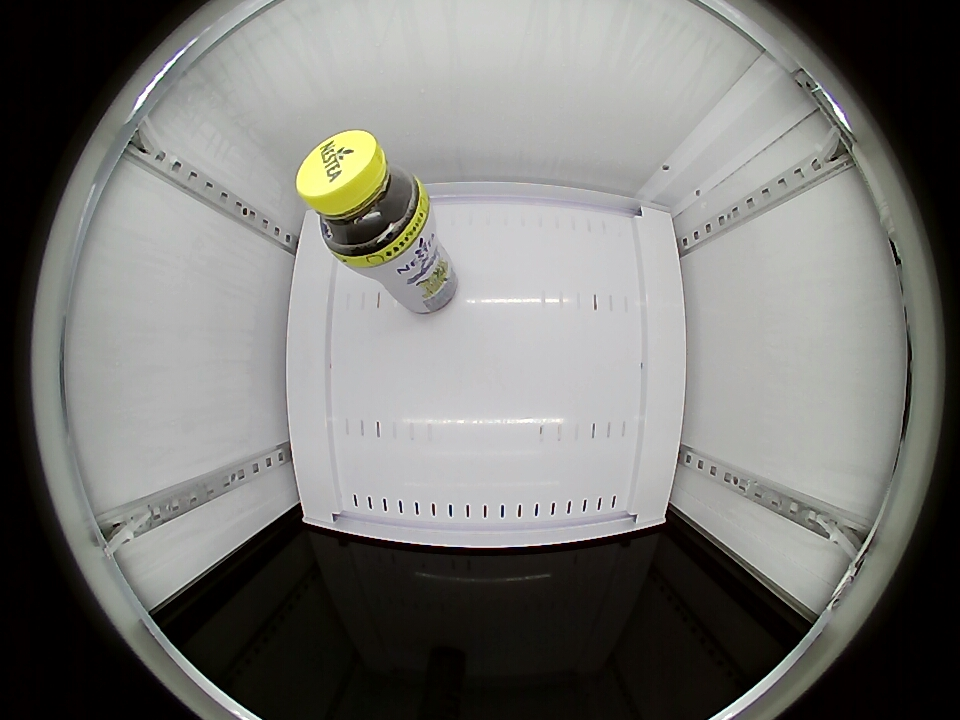chacui: (297, 130, 429, 265)
